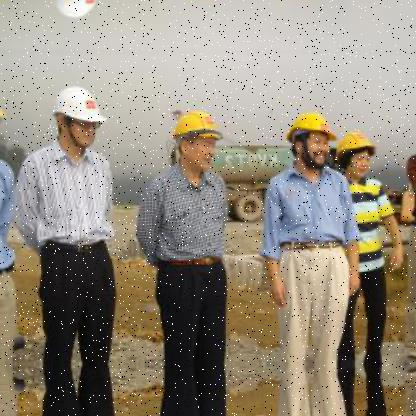helmet: (52, 80, 108, 153), (171, 104, 229, 170), (284, 104, 340, 167), (337, 125, 381, 176), (51, 0, 108, 21)
